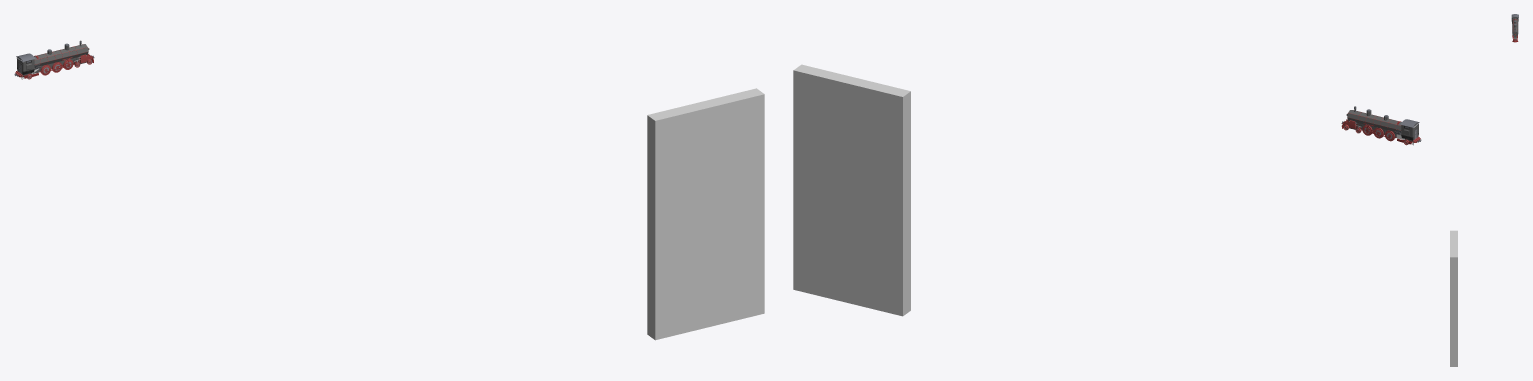
Rendered from train.glb.
The picture shows the model from 3 angles, left to right: view 1: azimuth 30°, elevation 25°; view 2: azimuth 150°, elevation 25°; view 3: azimuth 270°, elevation 25°; orthographic projection. The views are drawn at different scales.
Visible parts, largest first — view 1: Detail1.002, SteamTtrain; view 2: Detail1.002, SteamTtrain; view 3: Detail1.002, SteamTtrain.
Boxes of the visible parts, box(x1,y1,x2,y2) form: Detail1.002: box(647, 88, 764, 340); SteamTtrain: box(14, 40, 94, 79); Detail1.002: box(793, 64, 910, 316); SteamTtrain: box(1341, 106, 1421, 145); Detail1.002: box(1450, 230, 1457, 366); SteamTtrain: box(1511, 14, 1518, 42).
Size of the model in its own units: 1305 by 685 by 227.
